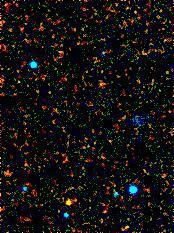star: (55, 190, 85, 220)
